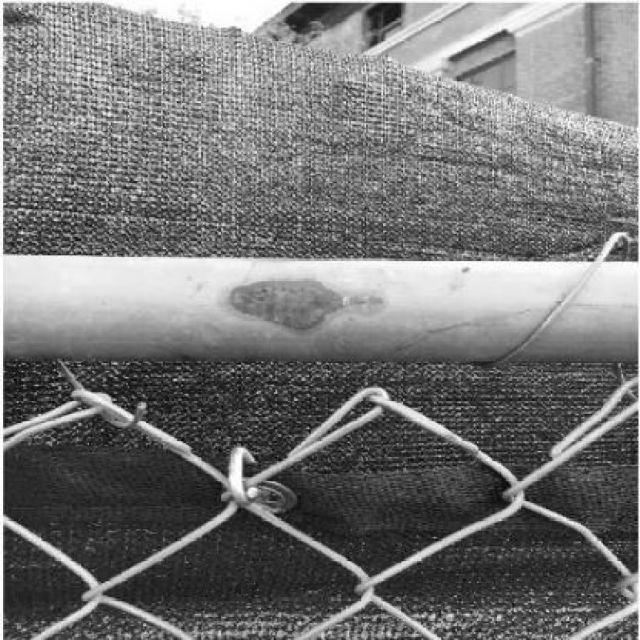Corrosion: (230, 277, 384, 332)
